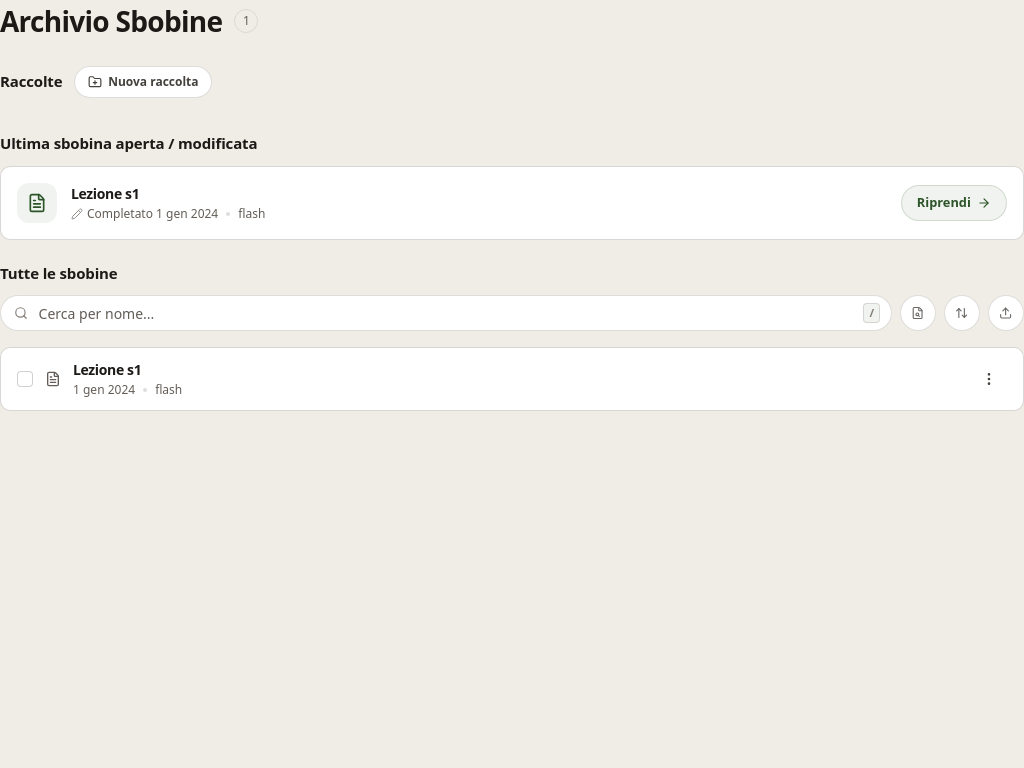
Test: ArchivePage › renames a lesson from its menu (inside collection: false)
Click the button named "Altre opzioni" at (989, 379), box left=971, top=361, right=1007, bottom=397
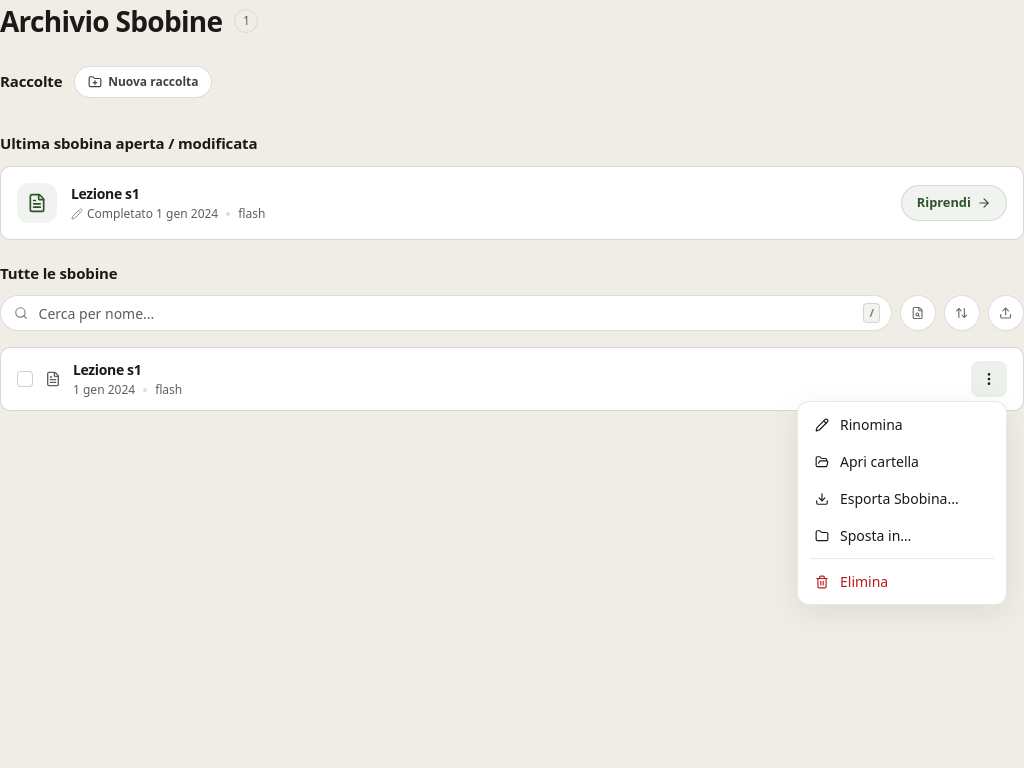
Click the button "Rinomina" at (902, 424), box left=802, top=406, right=1002, bottom=443
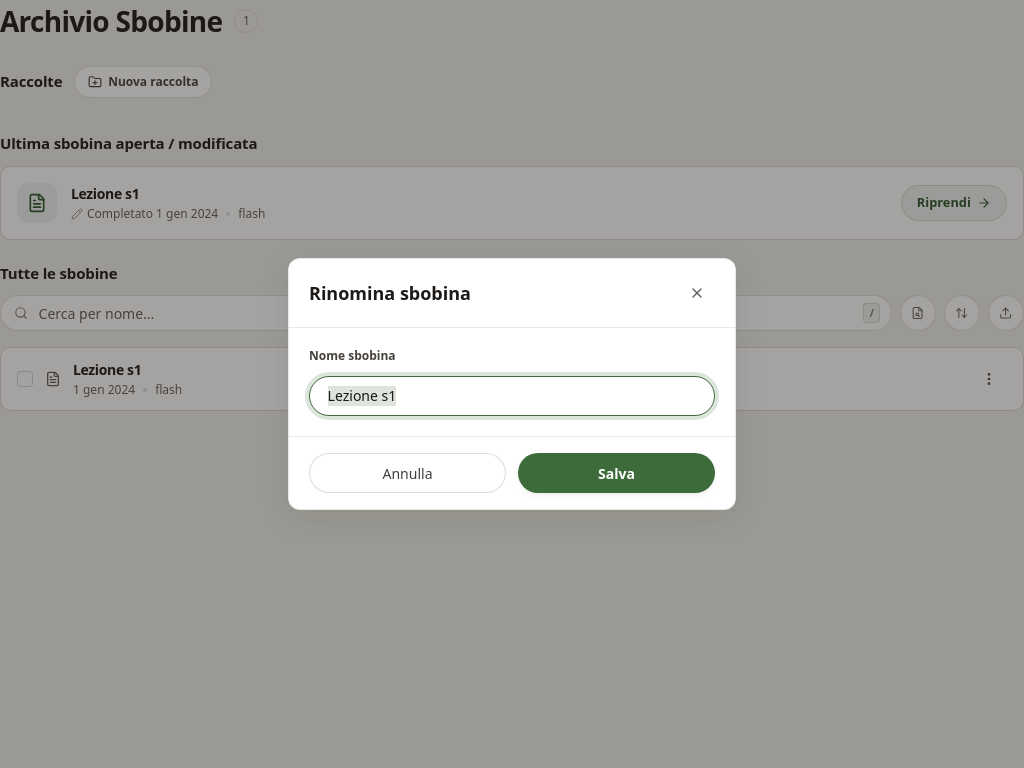
Expected: the field labelled "Nome sbobina" holds "Lezione s1"
Replace the text in the field labelled "Nome sbobina" with "  Apparato locomotore  " at (512, 396), box left=309, top=376, right=715, bottom=416
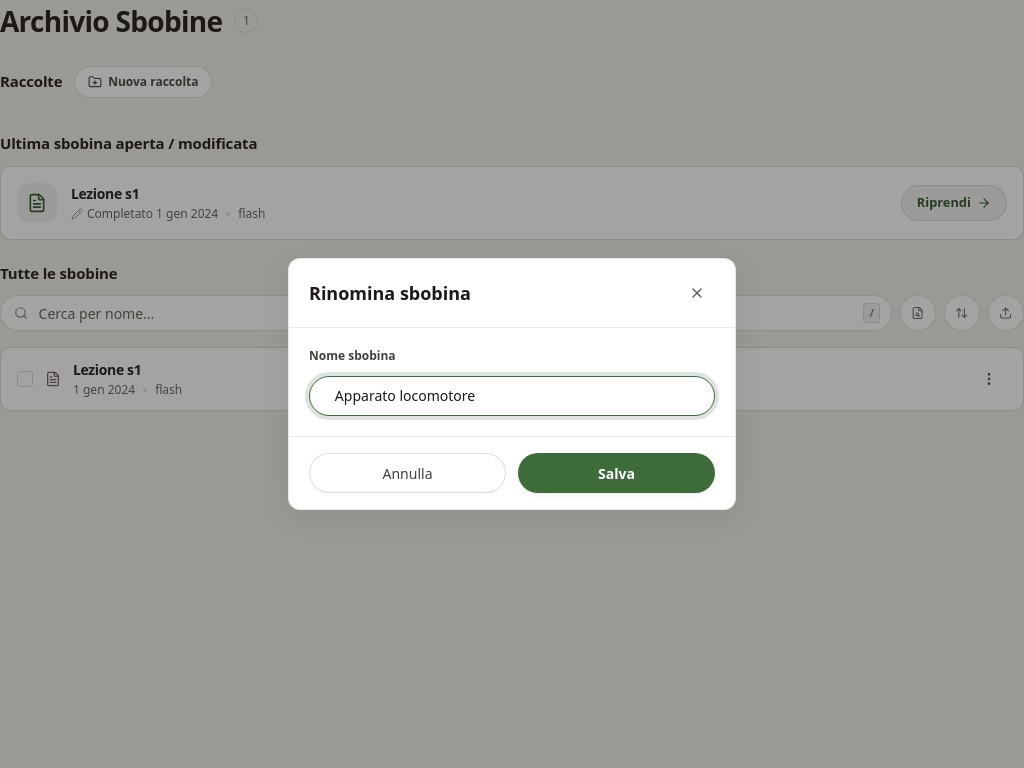
Click the button "Salva" at (616, 473), box left=518, top=453, right=715, bottom=493
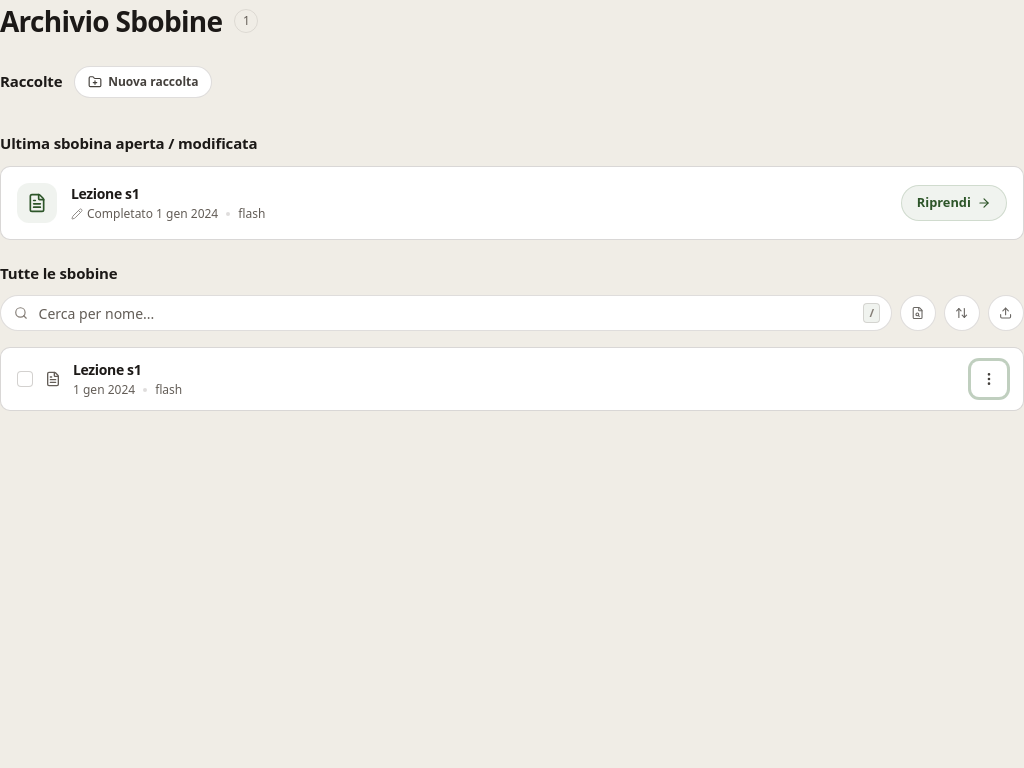
Expected: the dialog is gone
